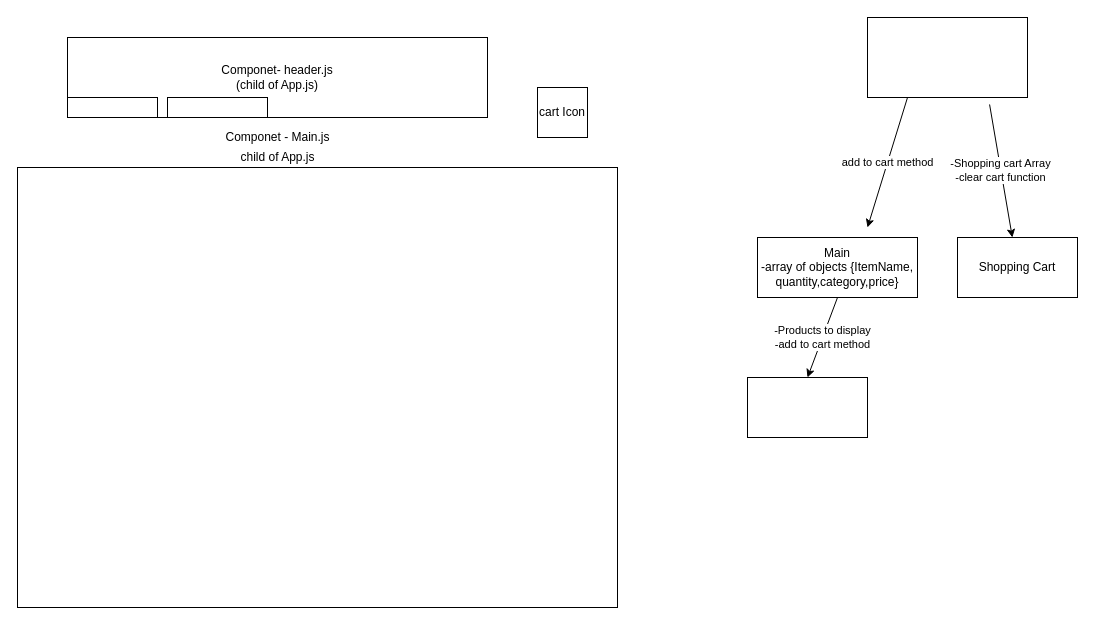
Some shapes in this 1095 by 625 pixel diagram are drawn without their labels. Each missing label, with the centre of its shape:
"app" belongs at pixel 947 57.
"category view" belongs at pixel 807 407.
